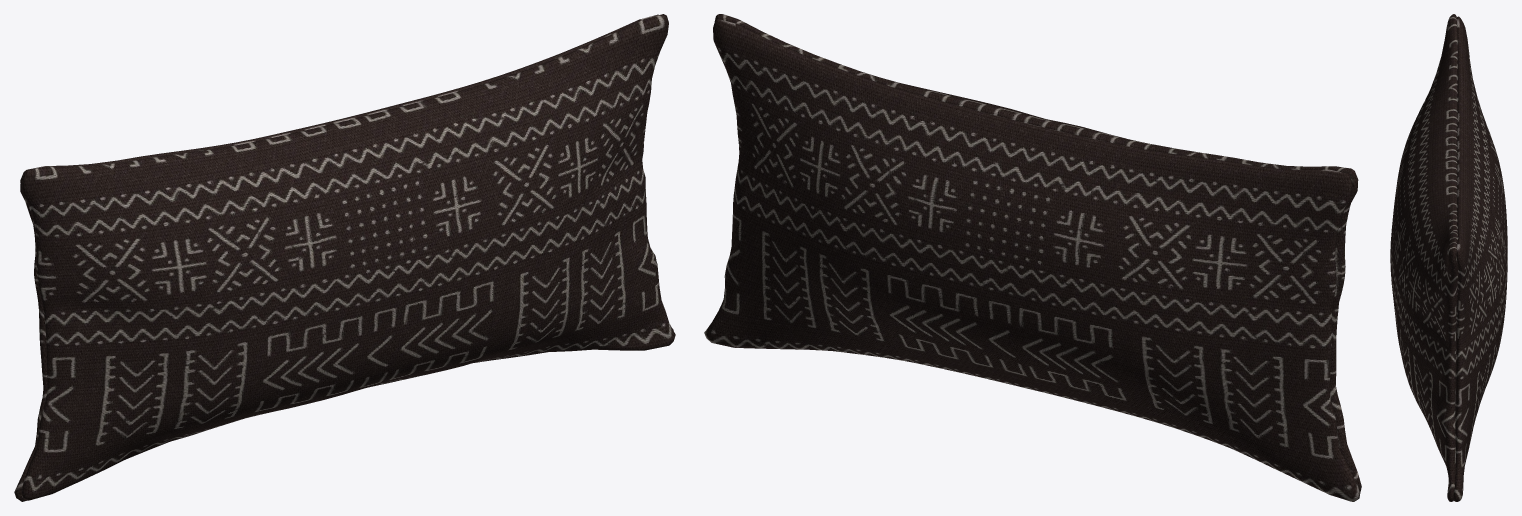
Rendered from B074VKVP98.glb.
3 views of the same model, side by side, from view 1: azimuth 30°, elevation 25°; view 2: azimuth 150°, elevation 25°; view 3: azimuth 270°, elevation 25° (orthographic). The views are drawn at different scales.
Visible parts, largest first — view 1: RootNode; view 2: RootNode; view 3: RootNode.
Boxes of the visible parts, box(x1,y1,x2,y2) form: RootNode: box(14, 14, 675, 501); RootNode: box(704, 14, 1361, 501); RootNode: box(1390, 14, 1507, 501).
Size of the model in its own units: 0.6671 by 0.3218 by 0.1353.
1 material, 1 textured.
